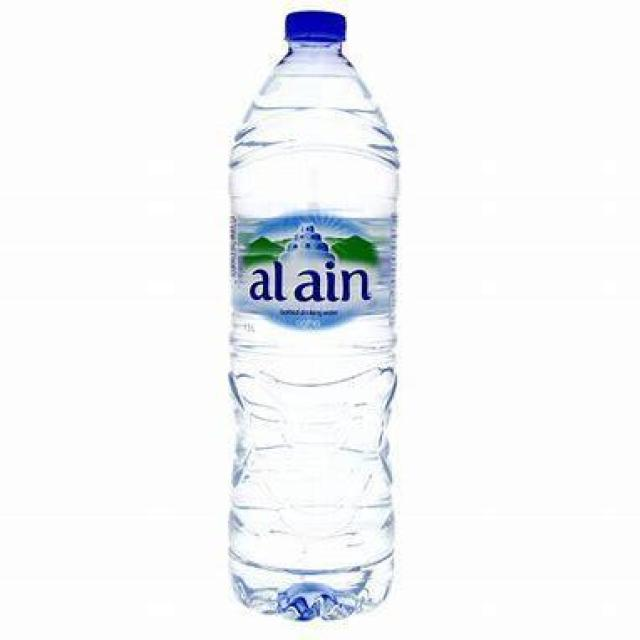bottle: (224, 8, 404, 624)
